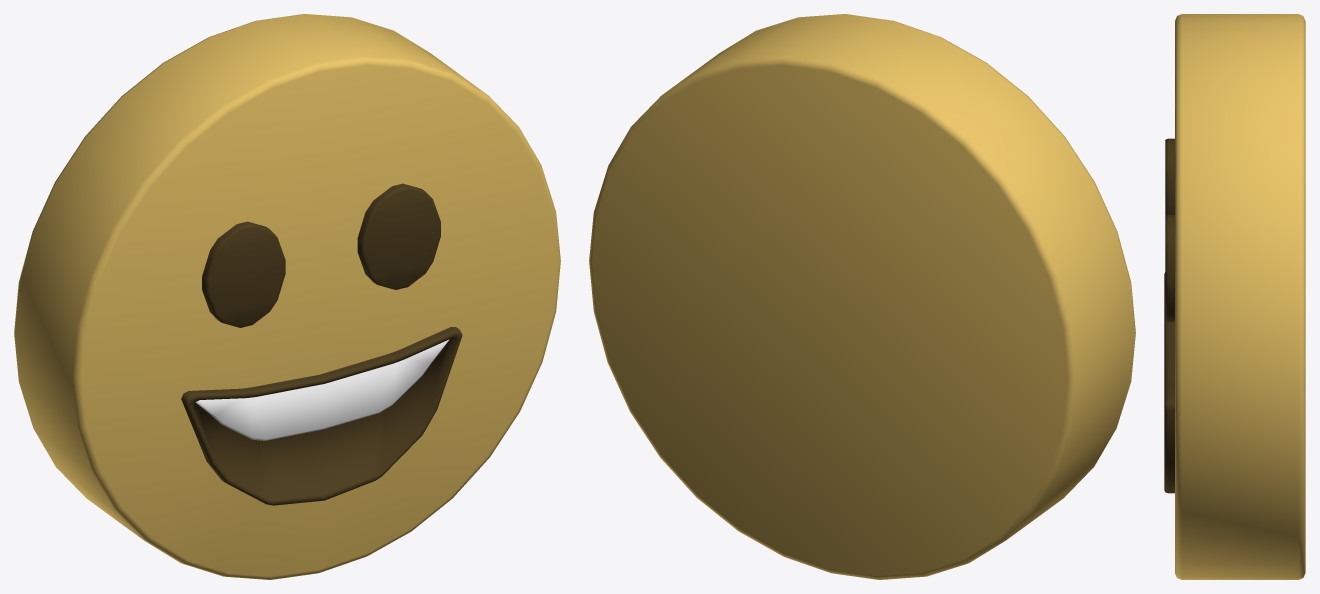
File: smile.fbx
The picture shows the model from 3 angles, left to right: view 1: azimuth 30°, elevation 25°; view 2: azimuth 150°, elevation 25°; view 3: azimuth 270°, elevation 25°; orthographic projection.
Visible parts, largest first — view 1: Cylinder.124; view 2: Cylinder.124; view 3: Cylinder.124.
Part boxes in pixels (box(x1,y1,x2,y2)): Cylinder.124: box(14, 14, 560, 579); Cylinder.124: box(589, 14, 1135, 579); Cylinder.124: box(1164, 14, 1305, 579).
Size of the model in its own units: 86.86 by 86.86 by 21.62.
